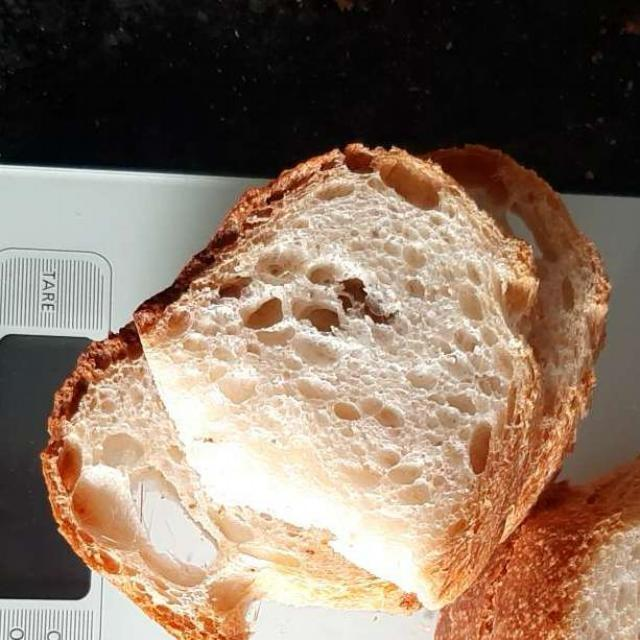bread: (42, 150, 636, 639)
